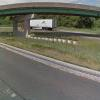Bridge: (1, 0, 100, 31)
